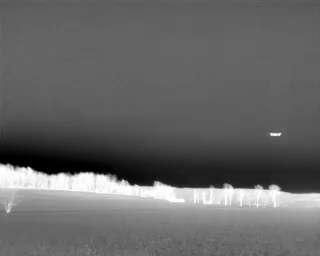DRONE: (265, 127, 286, 144)
